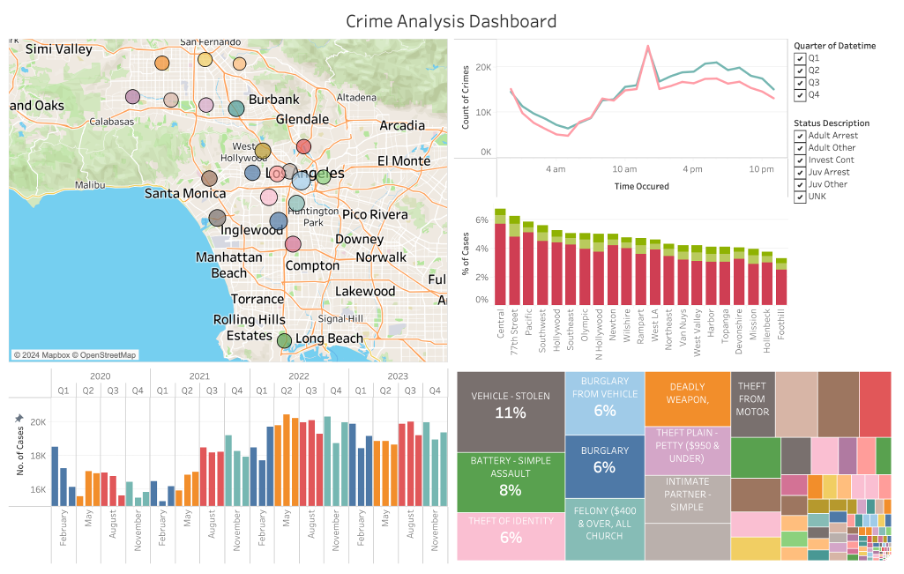

This screenshot's page, from the dashboard's own definition file:
{"tool":"tableau","page":{"name":"Crime Analysis Dashboard","canvas":[1000,1000],"units":"permille","ordinal":0},"visuals":[{"type":"title","box":[6.4,10,987.3,52.6]},{"type":"worksheet","title":"Crime Rate across Area","mark":"Automatic","rows":["LAT"],"cols":["LON"],"box":[6.4,62.6,493.2,575.6]},{"type":"worksheet","title":"Hourly Crime Rate across Gender","mark":"Automatic","rows":["Calculation_6395322588960768000","Calculation_6395322588960874497"],"cols":["TIME OCC"],"box":[499.6,62.6,376.5,287.8]},{"type":"filter","title":"Time Series Analysis","param":"[federated.14r0qv60iiu3dg1gdyhc317e94sw].[qr:Calculation_3605764833592991745:ok]","box":[876.1,62.6,117.6,135.2]},{"type":"filter","title":"Report Status by Location","param":"[federated.14r0qv60iiu3dg1gdyhc317e94sw].[none:Status Desc:nk]","box":[876.1,197.7,117.6,182.7]},{"type":"worksheet","title":"Report Status by Location","mark":"Automatic","rows":["Calculation_388013265110913024"],"cols":["AREA NAME"],"box":[499.6,350.4,376.5,287.8]},{"type":"worksheet","title":"Time Series Analysis","mark":"Bar","rows":["Calculation_388013265110913024"],"cols":["Calculation_3605764833592991745","Calculation_3605764833592991745","Calculation_3605764833592991745"],"box":[6.4,638.2,493.2,351.8]},{"type":"worksheet","title":"Crime categorisation","mark":"Automatic","box":[499.6,638.2,494.1,351.8]}]}

Visuals, with their boxes on the dashboard's canvas, which has no fixed pixel size, in thousandths of its width and height (x1, y1, x2, y2). These are canvas units, not pixel positions in the 904x574 screenshot, which may show the page scaled, cropped or inside an application window:
title: left=6, top=10, right=994, bottom=63
"Crime Rate across Area" worksheet: left=6, top=63, right=500, bottom=638
"Hourly Crime Rate across Gender" worksheet: left=500, top=63, right=876, bottom=350
"Time Series Analysis" filter: left=876, top=63, right=994, bottom=198
"Report Status by Location" filter: left=876, top=198, right=994, bottom=380
"Report Status by Location" worksheet: left=500, top=350, right=876, bottom=638
"Time Series Analysis" worksheet (Bar marks): left=6, top=638, right=500, bottom=990
"Crime categorisation" worksheet: left=500, top=638, right=994, bottom=990
